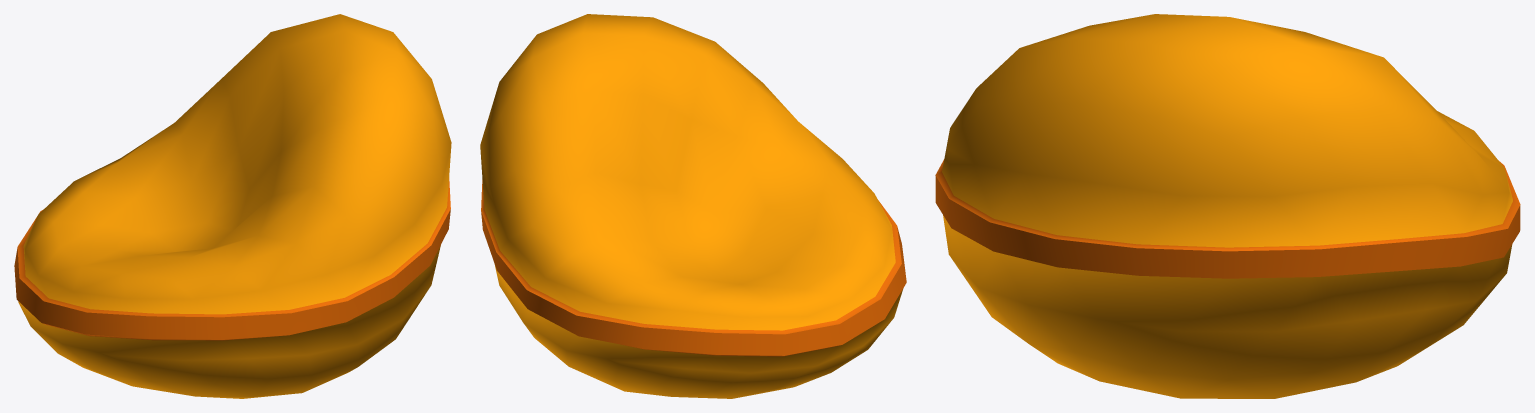
The model's file is Beanbag01.fbx.
3 views of the same model, side by side, from view 1: azimuth 30°, elevation 25°; view 2: azimuth 150°, elevation 25°; view 3: azimuth 270°, elevation 25° (orthographic). The views are drawn at different scales.
Visible parts, largest first — view 1: Beanbag01; view 2: Beanbag01; view 3: Beanbag01.
Part boxes in pixels (x1,y1,x2,y2): Beanbag01: [14, 14, 451, 398]; Beanbag01: [480, 14, 906, 398]; Beanbag01: [935, 14, 1520, 398].
Bounding box in the file's own units: 0.4009 × 0.3852 × 0.2993.
